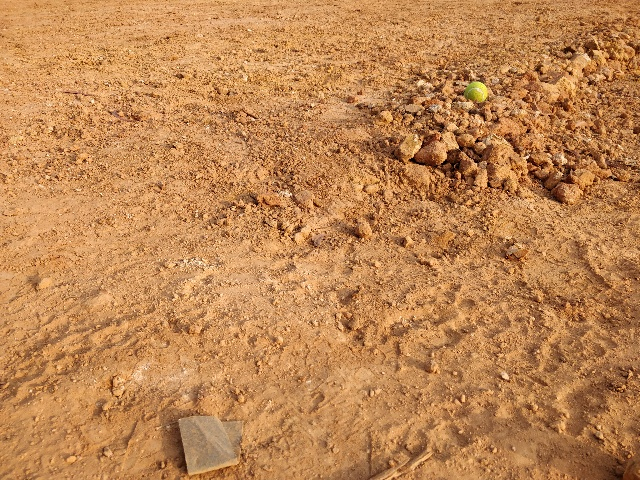ball: (461, 80, 494, 105)
